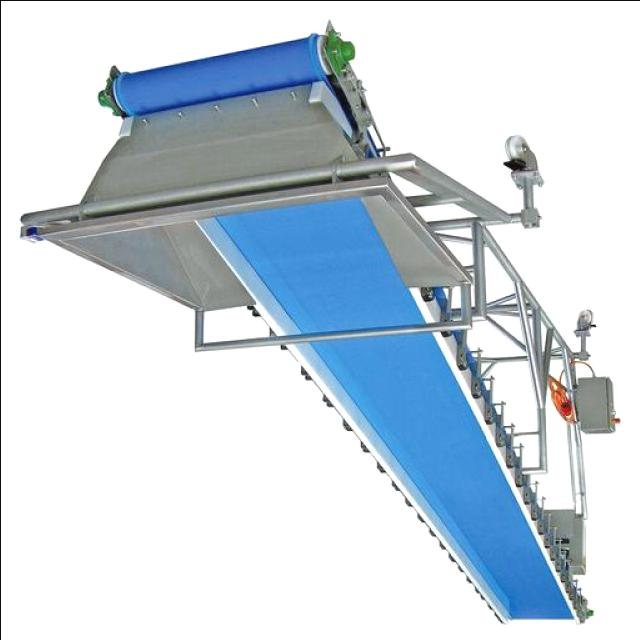conveyor: (189, 195, 582, 618)
